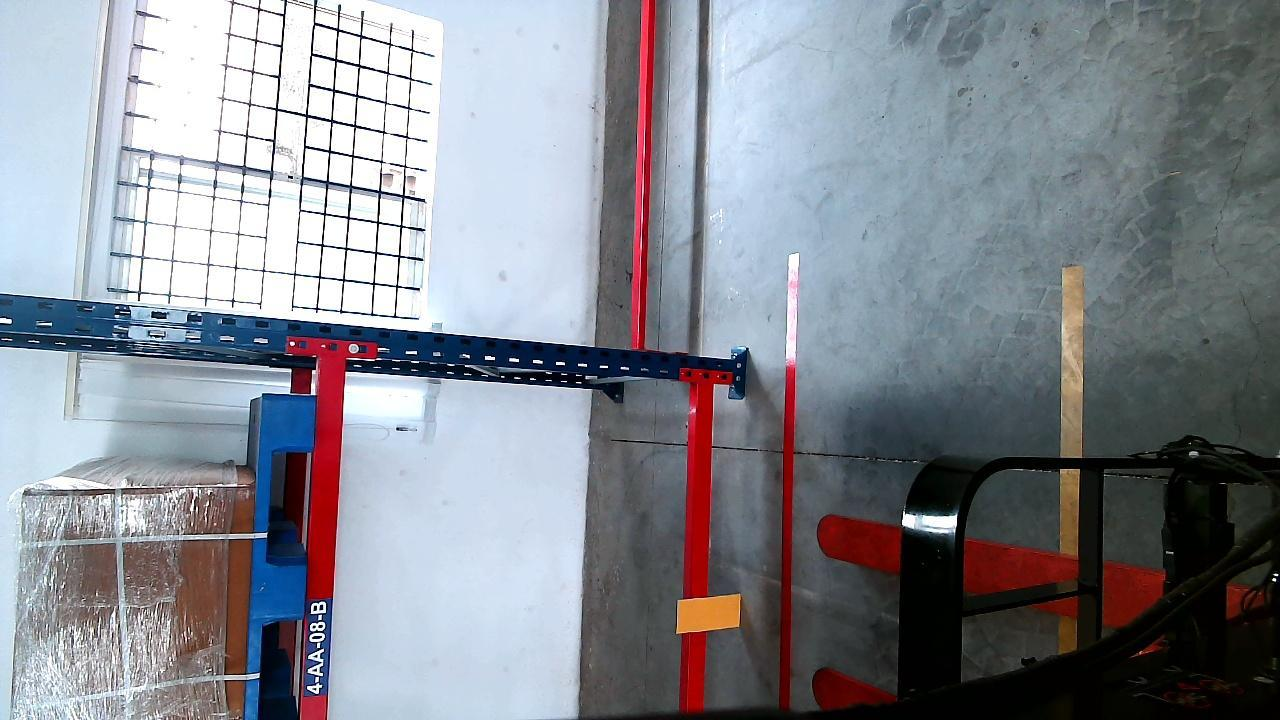red_line: (775, 255, 799, 712)
yellow_line: (1060, 266, 1082, 654)
